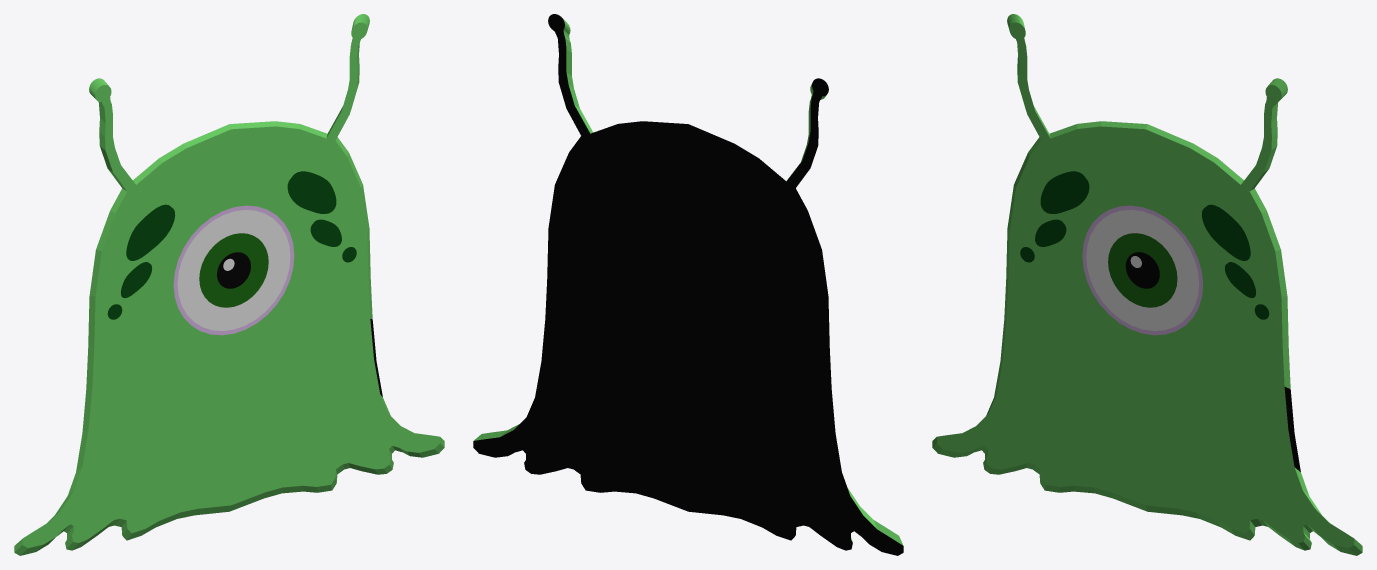
The model's file is alien_bkn 1.fbx.
3 views of the same model, side by side, from view 1: azimuth 30°, elevation 25°; view 2: azimuth 150°, elevation 25°; view 3: azimuth 330°, elevation 25° (orthographic).
Parts seen in each view (by area): view 1: Plane.009, Plane.008, Plane.006, Plane.005, Plane.007, Plane.001, Plane.002; view 2: Plane.009, Plane.006, Plane.008, Plane.005, Plane.007, Plane.001, Plane.002; view 3: Plane.009, Plane.008, Plane.006, Plane.005, Plane.007, Plane.001, Plane.002.
Part boxes in pixels (bbox=[...]): Plane.009: bbox=[89, 14, 372, 352]; Plane.008: bbox=[88, 185, 294, 347]; Plane.006: bbox=[14, 394, 231, 555]; Plane.005: bbox=[229, 394, 444, 511]; Plane.007: bbox=[82, 323, 231, 432]; Plane.001: bbox=[231, 319, 376, 394]; Plane.002: bbox=[231, 359, 382, 430]; Plane.009: bbox=[545, 14, 828, 354]; Plane.006: bbox=[688, 397, 903, 555]; Plane.008: bbox=[688, 182, 829, 347]; Plane.005: bbox=[473, 397, 688, 511]; Plane.007: bbox=[688, 313, 835, 432]; Plane.001: bbox=[541, 319, 688, 397]; Plane.002: bbox=[535, 361, 688, 434]; Plane.009: bbox=[1007, 14, 1290, 388]; Plane.008: bbox=[1006, 137, 1202, 335]; Plane.006: bbox=[932, 359, 1147, 511]; Plane.005: bbox=[1145, 431, 1362, 555]; Plane.007: bbox=[1000, 279, 1145, 394]; Plane.001: bbox=[1145, 353, 1294, 432]; Plane.002: bbox=[1145, 394, 1300, 471].
Bounding box in the file's own units: 201 × 210 × 4.3.
